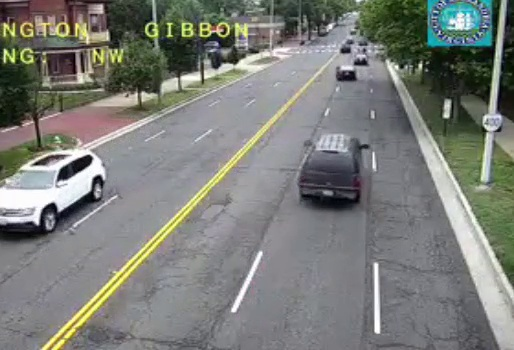car: (298, 134, 360, 201), (335, 64, 357, 81)
